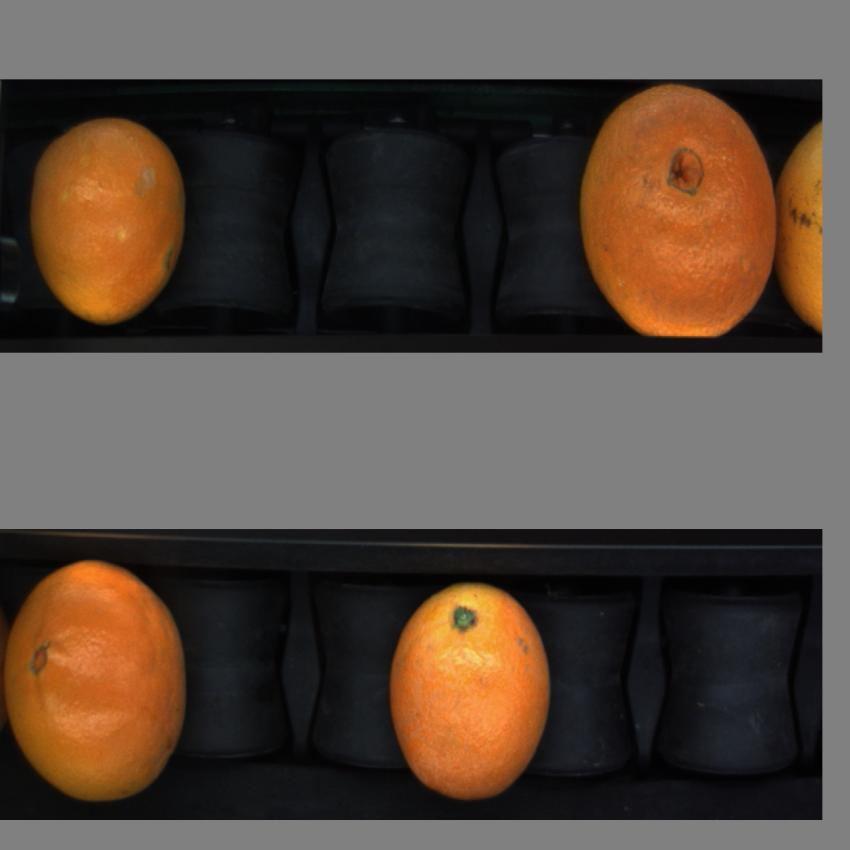Buen estado: (2, 562, 192, 805), (387, 572, 558, 800), (776, 91, 826, 345)
Mal estado: (576, 86, 781, 341), (25, 106, 210, 330)
